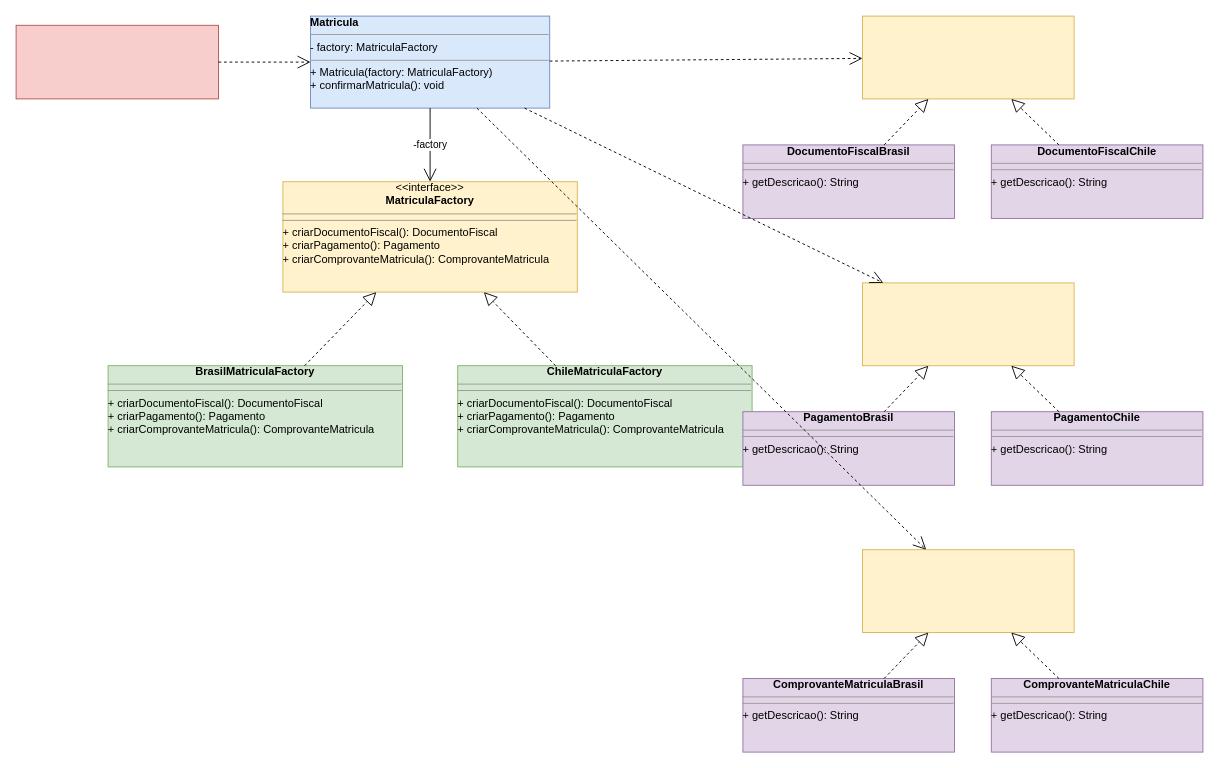
This 1219x768 diagram has some shape labels left out. The centre of each missing label's shape, as x and y in pixels:
"<<interface>> ComprovanteMatricula + getDescricao(): String" belongs at point (968, 590).
"<<interface>> DocumentoFiscal + getDescricao(): String" belongs at point (968, 57).
"<<interface>> Pagamento + getDescricao(): String" belongs at point (968, 324).
"Main + main(args: String[]): void" belongs at point (116, 61).
